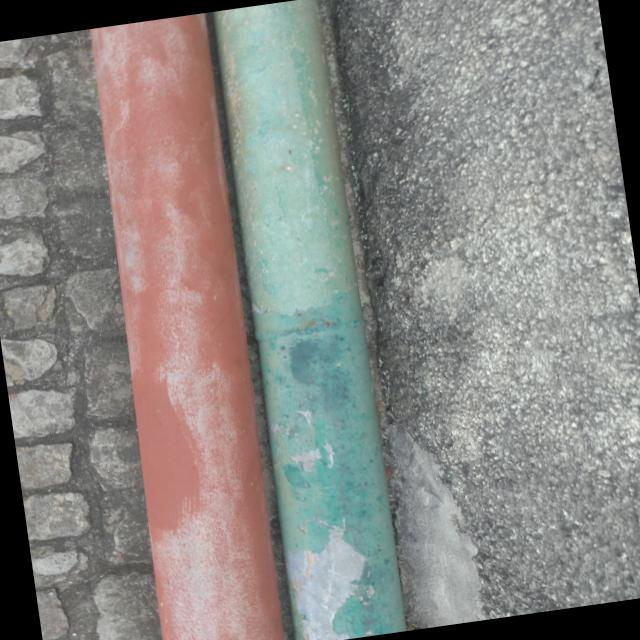gas: (72, 13, 292, 640), (204, 0, 412, 640)
